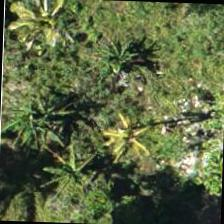Kelapa_Sawit: (76, 88, 168, 181), (2, 0, 92, 57)
